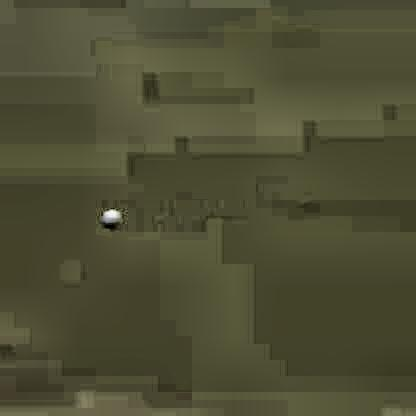golfball: (99, 206, 119, 226)
